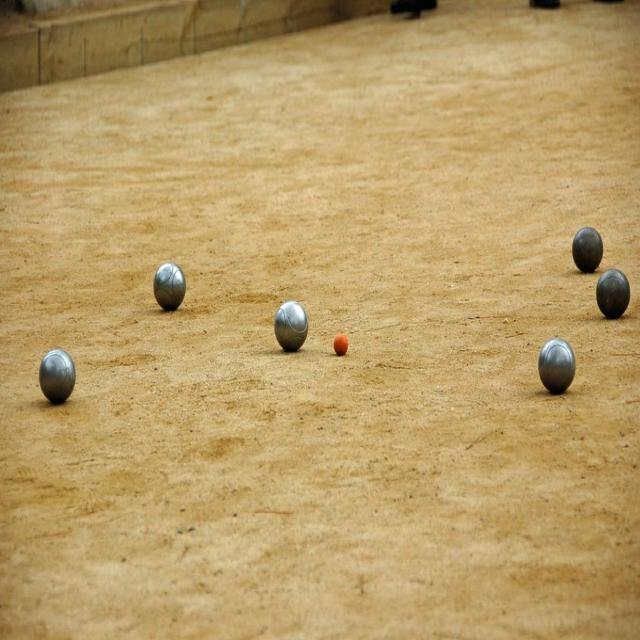Ball: (39, 226, 630, 404)
